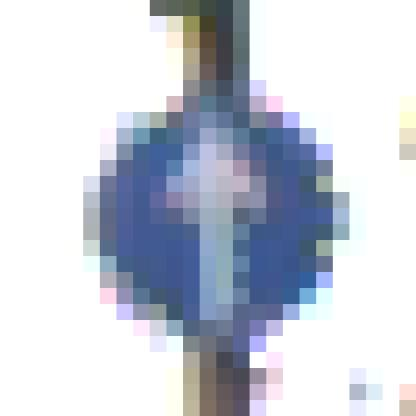AheadOnly: (84, 81, 334, 337)
